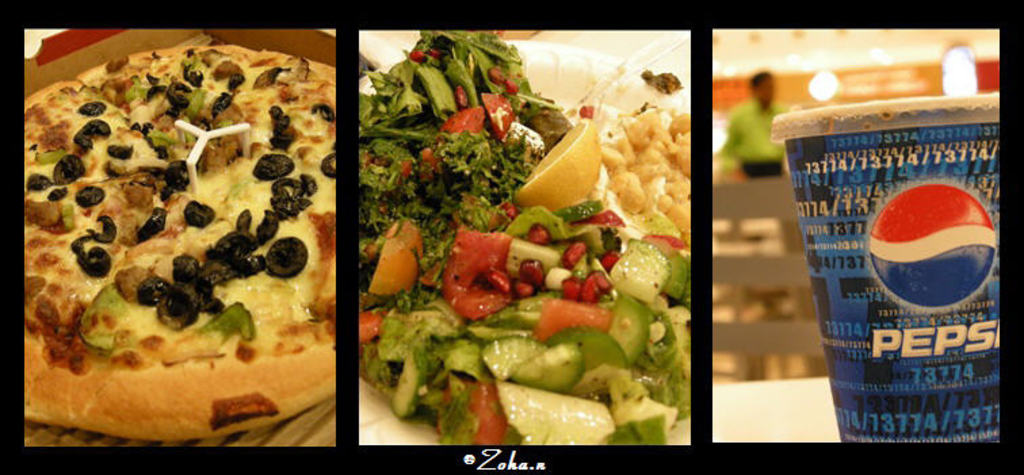Pizza: (29, 43, 346, 407)
